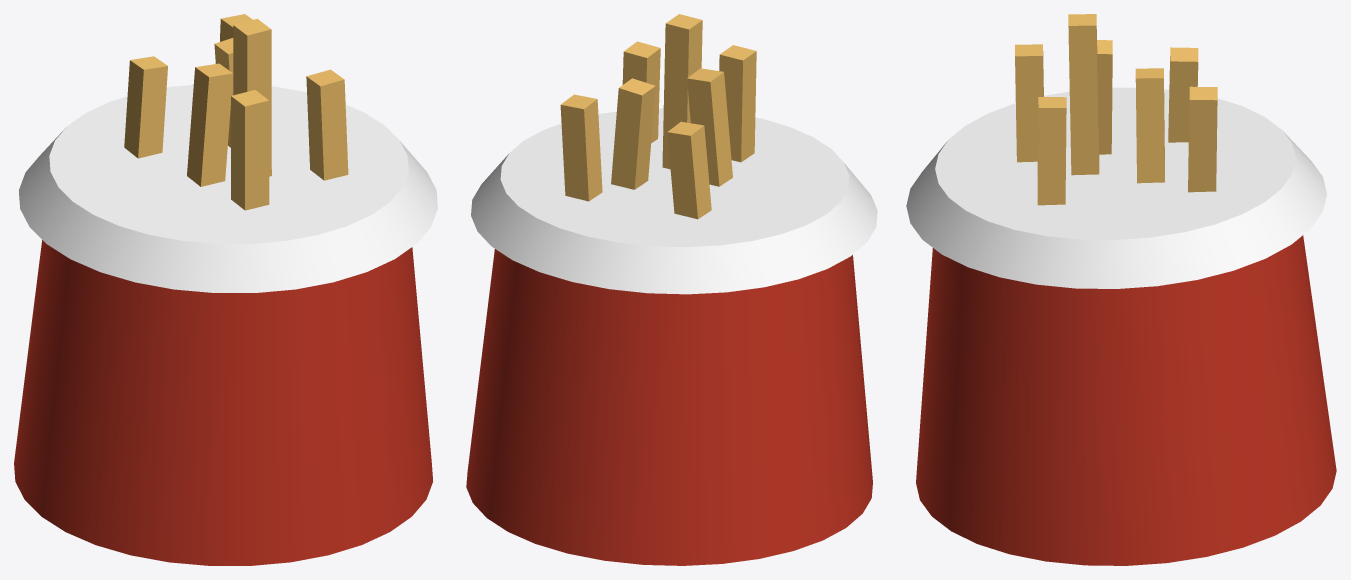
Rendered from fries.glb.
3 views of the same model, side by side, from view 1: azimuth 30°, elevation 25°; view 2: azimuth 150°, elevation 25°; view 3: azimuth 270°, elevation 25° (orthographic). The views are drawn at different scales.
Size of what is drawn, in the model's own units: 1.78 by 2.18 by 1.82.
